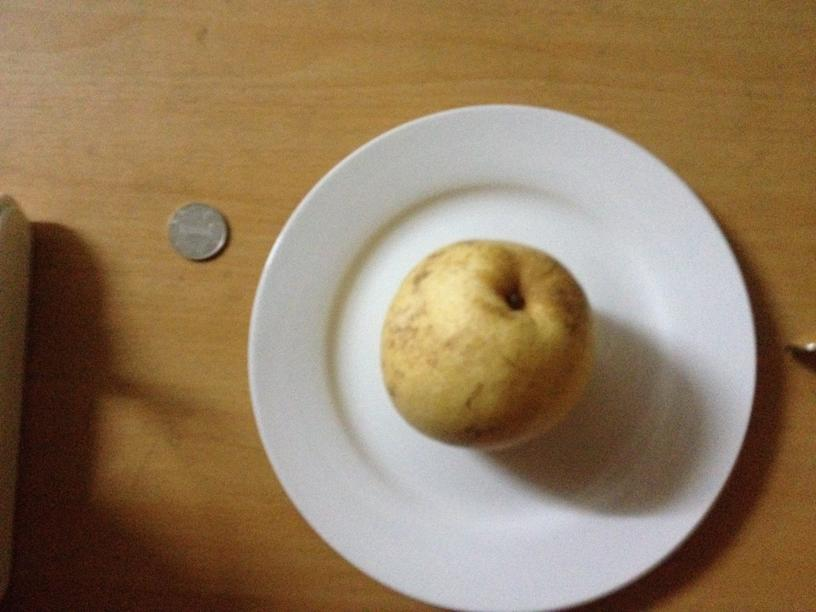coin: (165, 202, 227, 263)
pear: (377, 242, 590, 450)
